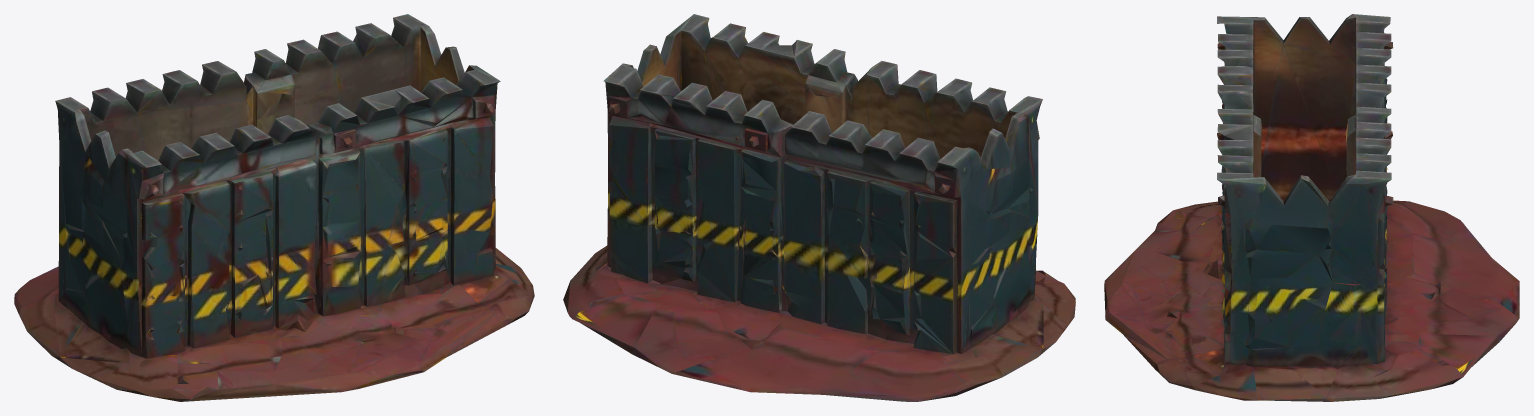
Rendered from wall_metal.glb.
The picture shows the model from 3 angles, left to right: view 1: azimuth 30°, elevation 25°; view 2: azimuth 150°, elevation 25°; view 3: azimuth 270°, elevation 25°; orthographic projection. The views are drawn at different scales.
Size of the model in its own units: 1.89 by 0.8936 by 1.63.
Materials: 1 (1 with a texture image).
